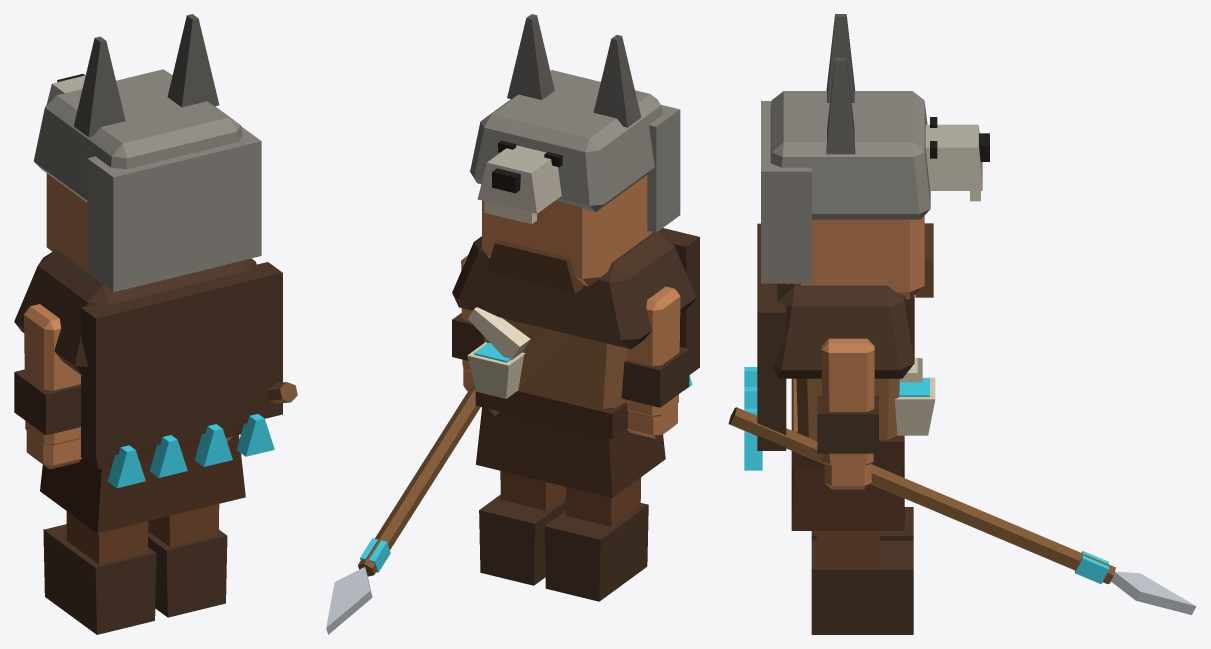
File: CH_Beastmaster.fbx
3 renders of one model, left to right at view 1: azimuth 30°, elevation 25°; view 2: azimuth 150°, elevation 25°; view 3: azimuth 270°, elevation 25°, orthographic. The views are drawn at different scales.
Visible parts, largest first — view 1: MantleBack, HoodBack, Hood, Skirt, BootL, Mantle, BootR, ArmL, EarL, Head, CuffL, EarR (+10 smaller); view 2: Hood, Mantle, Skirt, Head, BootL, Body, BootR, Belt, Shaft, Snout, HoodBack, ArmL (+16 smaller); view 3: Hood, Mantle, BootR, Head, HoodBack, Shaft, Skirt, ArmR, MantleBack, Snout, CuffR, Body (+10 smaller).
Part boxes in pixels (bbox=[...]): MantleBack: bbox=[81, 262, 282, 459]; HoodBack: bbox=[87, 126, 261, 291]; Hood: bbox=[33, 69, 242, 202]; Skirt: bbox=[40, 435, 245, 533]; BootL: bbox=[43, 524, 156, 634]; Mantle: bbox=[14, 249, 256, 377]; BootR: bbox=[148, 530, 227, 617]; ArmL: bbox=[24, 304, 80, 445]; EarL: bbox=[74, 36, 125, 137]; Head: bbox=[46, 173, 225, 289]; CuffL: bbox=[14, 369, 80, 435]; EarR: bbox=[167, 14, 219, 107]; Hood: bbox=[470, 70, 662, 212]; Mantle: bbox=[452, 231, 696, 349]; Skirt: bbox=[476, 407, 665, 497]; Head: bbox=[482, 175, 652, 286]; BootL: bbox=[544, 503, 648, 601]; Body: bbox=[484, 318, 627, 408]; BootR: bbox=[479, 494, 565, 585]; Belt: bbox=[475, 389, 627, 438]; Shaft: bbox=[358, 384, 480, 576]; Snout: bbox=[477, 145, 561, 213]; HoodBack: bbox=[647, 104, 680, 232]; ArmL: bbox=[624, 286, 680, 416]; Hood: bbox=[770, 91, 930, 219]; Mantle: bbox=[772, 283, 914, 378]; BootR: bbox=[811, 540, 913, 634]; Head: bbox=[786, 216, 924, 299]; HoodBack: bbox=[761, 101, 811, 283]; Shaft: bbox=[728, 407, 1115, 584]; Skirt: bbox=[791, 468, 904, 530]; ArmR: bbox=[821, 338, 874, 465]; MantleBack: bbox=[757, 223, 786, 450]; Snout: bbox=[925, 124, 982, 190]; CuffR: bbox=[817, 395, 878, 453]; Body: bbox=[796, 378, 899, 439].
Size of the model in its own units: 0.7 by 1.29 by 1.72.
